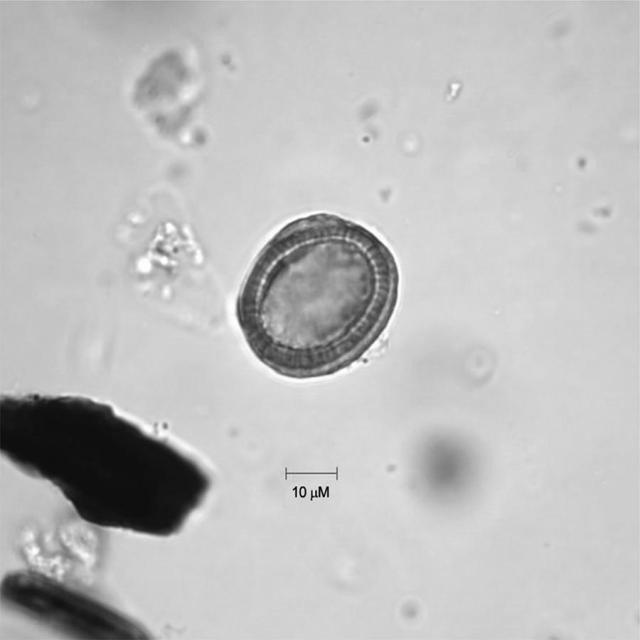Taenia Sp: (224, 212, 398, 384)
